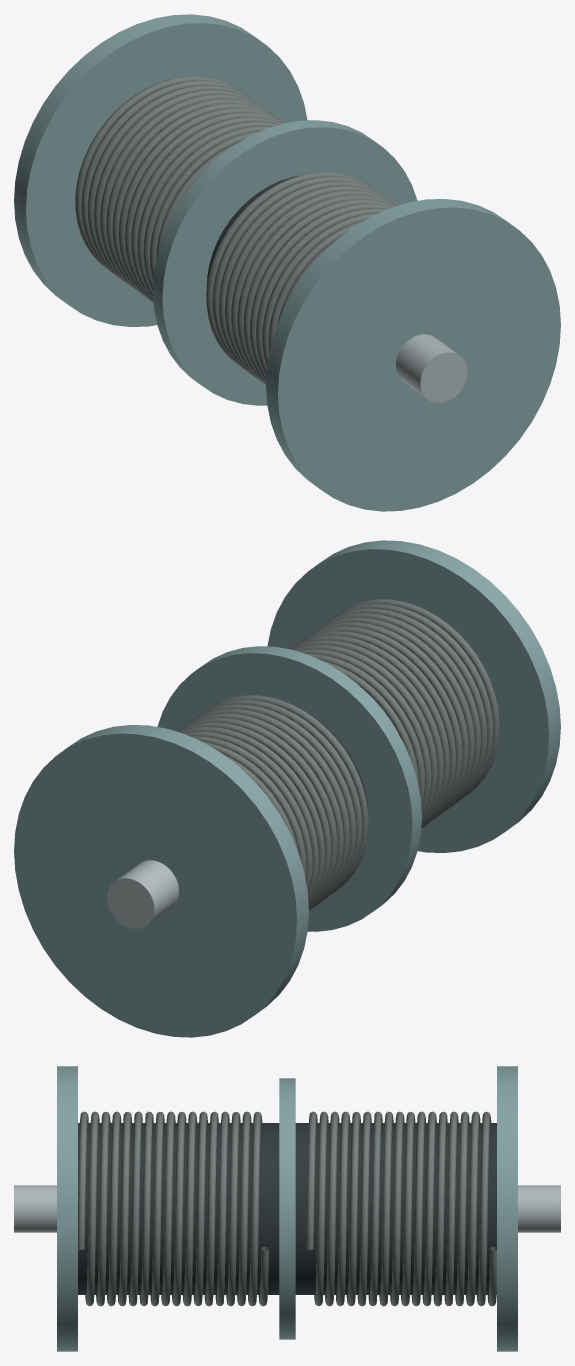
The model's file is trawl_drum.glb.
3 renders of one model, top to bottom at view 1: azimuth 30°, elevation 25°; view 2: azimuth 150°, elevation 25°; view 3: azimuth 270°, elevation 25°, orthographic. The views are drawn at different scales.
Visible parts, largest first — view 1: Drum flange, Drum flange.001, Central drum divider, Wound warp.001, Wound warp, Axle; view 2: Drum flange.001, Drum flange, Wound warp, Central drum divider, Wound warp.001, Axle.001; view 3: Drum barrel, Wound warp.001, Wound warp, Drum flange, Drum flange.001, Central drum divider, Axle, Axle.001.
Part boxes in pixels (x1=…): Drum flange: x1=266, y1=199, x2=560, y2=511; Drum flange.001: x1=14, y1=14, x2=307, y2=326; Central drum divider: x1=153, y1=120, x2=417, y2=405; Wound warp.001: x1=75, y1=76, x2=285, y2=302; Wound warp: x1=206, y1=172, x2=397, y2=384; Axle: x1=396, y1=334, x2=467, y2=402; Drum flange.001: x1=14, y1=725, x2=308, y2=1037; Drum flange: x1=267, y1=540, x2=560, y2=852; Wound warp: x1=290, y1=599, x2=499, y2=828; Central drum divider: x1=157, y1=646, x2=421, y2=931; Wound warp.001: x1=177, y1=695, x2=368, y2=910; Axle.001: x1=107, y1=860, x2=178, y2=928; Drum barrel: x1=78, y1=1123, x2=496, y2=1294; Wound warp.001: x1=306, y1=1111, x2=496, y2=1306; Wound warp: x1=78, y1=1111, x2=268, y2=1306; Drum flange: x1=57, y1=1066, x2=77, y2=1351; Drum flange.001: x1=497, y1=1066, x2=517, y2=1351; Central drum divider: x1=279, y1=1078, x2=295, y2=1339; Axle: x1=14, y1=1185, x2=56, y2=1232; Axle.001: x1=518, y1=1185, x2=560, y2=1232.
Bounding box in the file's own units: 0.96 × 0.96 × 1.84.
